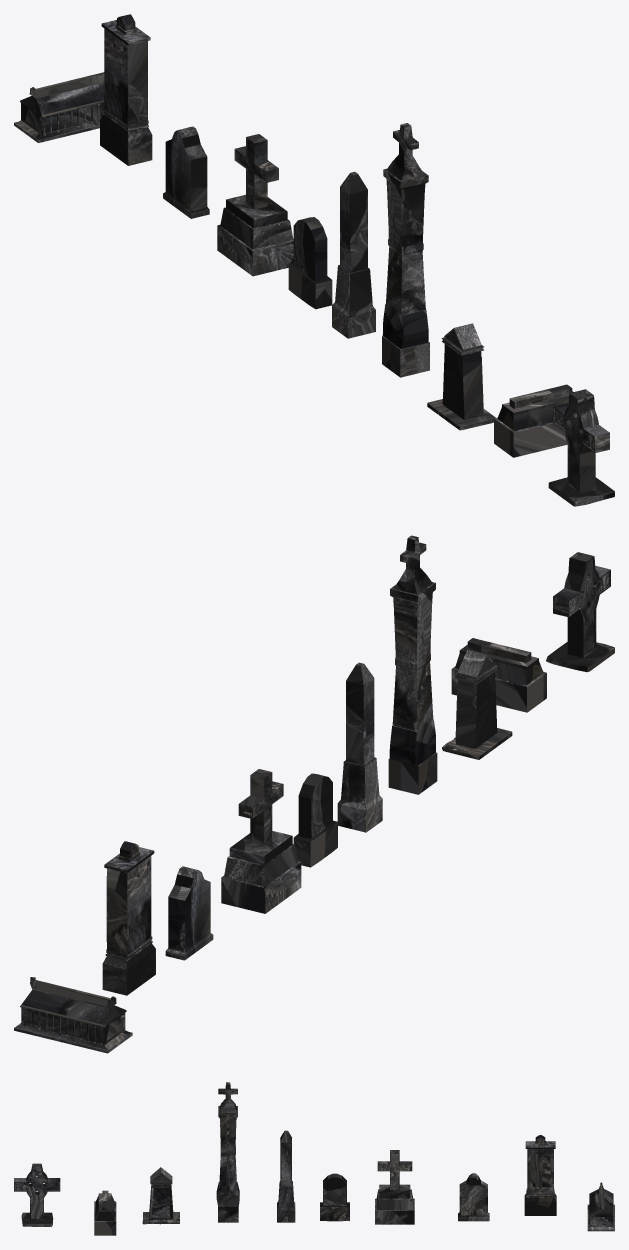
The model's file is grave.fbx.
3 renders of one model, top to bottom at view 1: azimuth 30°, elevation 25°; view 2: azimuth 150°, elevation 25°; view 3: azimuth 270°, elevation 25°, orthographic. The views are drawn at different scales.
Visible parts, largest first — view 1: Cube.002, Cube.005, Cube.007, Cube.003, Cube.008, Cylinder.000, Cube.010, Cube, Cube.006, Cube.004; view 2: Cube.002, Cube.005, Cube.007, Cylinder.000, Cube.003, Cube.008, Cube.010, Cube, Cube.006, Cube.004; view 3: Cube.002, Cube.007, Cube.005, Cube.008, Cube.010, Cube.003, Cube.006, Cube.004, Cylinder.000, Cube.
Part boxes in pixels (<box>): Cube.002: <box>382,123,429,377</box>; Cube.005: <box>217,134,293,276</box>; Cube.007: <box>100,14,152,165</box>; Cube.003: <box>332,171,375,338</box>; Cube.008: <box>548,389,614,506</box>; Cylinder.000: <box>14,72,104,142</box>; Cube.010: <box>427,323,495,430</box>; Cube: <box>494,384,573,457</box>; Cube.006: <box>163,126,209,218</box>; Cube.004: <box>288,217,332,309</box>; Cube.002: <box>388,535,437,794</box>; Cube.005: <box>221,769,301,913</box>; Cube.007: <box>102,841,155,995</box>; Cylinder.000: <box>14,977,132,1053</box>; Cube.003: <box>337,662,382,832</box>; Cube.008: <box>546,552,614,672</box>; Cube.010: <box>442,650,512,759</box>; Cube: <box>451,638,546,712</box>; Cube.006: <box>165,866,213,960</box>; Cube.004: <box>293,773,337,867</box>; Cube.002: <box>216,1082,239,1222</box>; Cube.007: <box>524,1135,556,1215</box>; Cube.005: <box>375,1150,414,1224</box>; Cube.008: <box>14,1163,60,1226</box>; Cube.010: <box>142,1167,179,1224</box>; Cube.003: <box>277,1130,295,1222</box>; Cube.006: <box>458,1173,489,1221</box>; Cube.004: <box>320,1173,349,1221</box>; Cylinder.000: <box>587,1182,614,1231</box>; Cube: <box>94,1190,116,1235</box>.
Bounding box in the file's own units: 89461 × 192994 × 768437.
